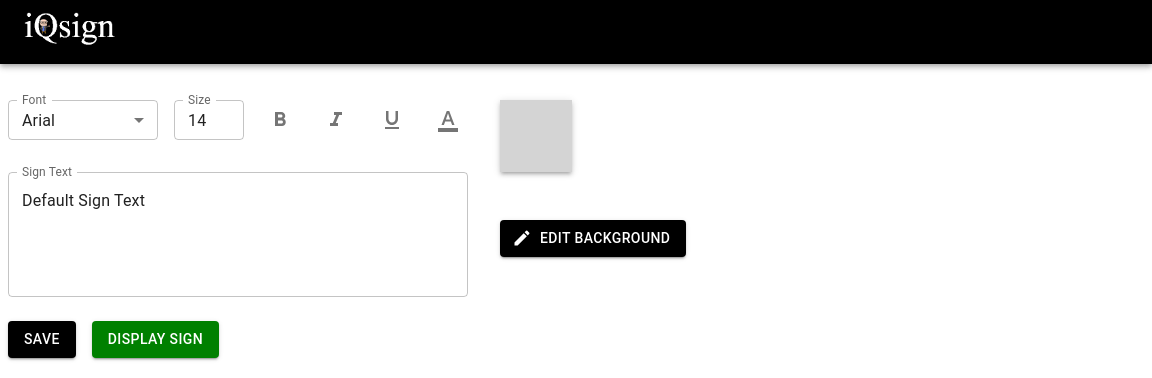
Test: Sign Editor Component › Component Interactions › allows changing text size
This screenshot has width=1152, height=378.
Replace the text in the field with id "outlined-uncontrolled" with "18" at point(209, 120), box [174, 100, 244, 140]
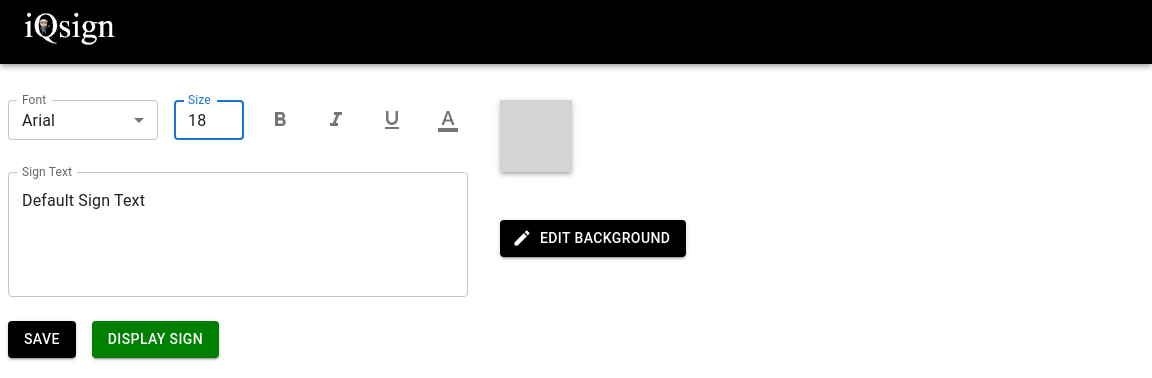
Check: the field with id "outlined-uncontrolled" holds "18", box [174, 100, 244, 140]
